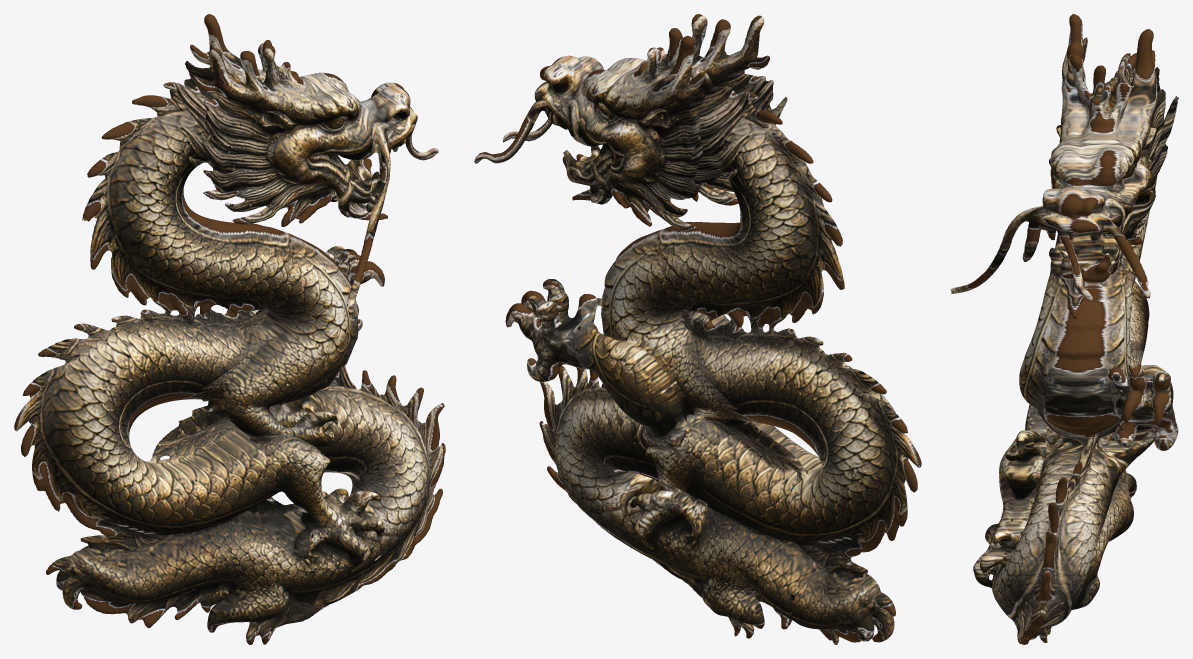
The model's file is dragon01_parts.glb.
3 renders of one model, left to right at view 1: azimuth 30°, elevation 25°; view 2: azimuth 150°, elevation 25°; view 3: azimuth 270°, elevation 25°, orthographic. The views are drawn at different scales.
Visible parts, largest first — view 1: Dragon_Body, Dragon_Head, Dragon_Mane, Dragon_Antlers, Dragon_Leg_B, Dragon_Leg_C, Dragon_Whisker_A, Dragon_Leg_A; view 2: Dragon_Body, Dragon_Mane, Dragon_Head, Dragon_Leg_C, Dragon_Antlers, Dragon_Leg_A, Dragon_Whisker_B; view 3: Dragon_Body, Dragon_Head, Dragon_Antlers, Dragon_Leg_A, Dragon_Leg_B, Dragon_Whisker_A, Dragon_Whisker_B, Dragon_Mane, Dragon_Leg_C.
Boxes of the visible parts, x1,y1,x2,y2 form: Dragon_Body: [14, 14, 445, 644]; Dragon_Head: [228, 43, 438, 255]; Dragon_Mane: [82, 82, 213, 226]; Dragon_Antlers: [194, 40, 301, 129]; Dragon_Leg_B: [308, 500, 385, 587]; Dragon_Leg_C: [46, 535, 125, 614]; Dragon_Whisker_A: [346, 134, 405, 309]; Dragon_Leg_A: [325, 246, 384, 286]; Dragon_Body: [528, 36, 921, 644]; Dragon_Mane: [692, 87, 842, 289]; Dragon_Head: [503, 47, 714, 201]; Dragon_Leg_C: [789, 558, 895, 642]; Dragon_Antlers: [641, 14, 773, 96]; Dragon_Leg_A: [505, 279, 580, 380]; Dragon_Whisker_B: [474, 115, 534, 163]; Dragon_Body: [980, 29, 1178, 644]; Dragon_Head: [983, 82, 1157, 300]; Dragon_Antlers: [1059, 14, 1131, 130]; Dragon_Leg_A: [1119, 364, 1178, 449]; Dragon_Leg_B: [973, 515, 1021, 605]; Dragon_Whisker_A: [950, 217, 1041, 293]; Dragon_Whisker_B: [1116, 235, 1150, 298]; Dragon_Mane: [1104, 53, 1166, 233]; Dragon_Leg_C: [1114, 469, 1136, 511].
Size of the model in its own units: 0.2499 by 0.35 by 0.119.
1 material, 1 textured.
